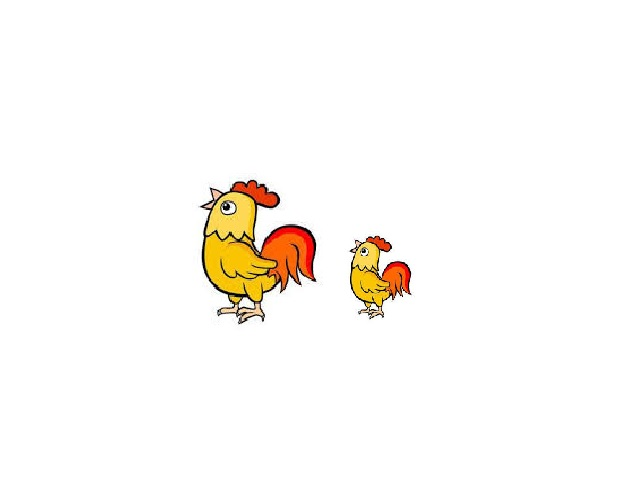crown: (231, 179, 282, 208), (366, 233, 389, 254)
eyes: (219, 200, 237, 214), (361, 246, 368, 257)
feet: (220, 300, 274, 326), (361, 306, 384, 321)
tail: (263, 227, 318, 290), (384, 261, 412, 300)
